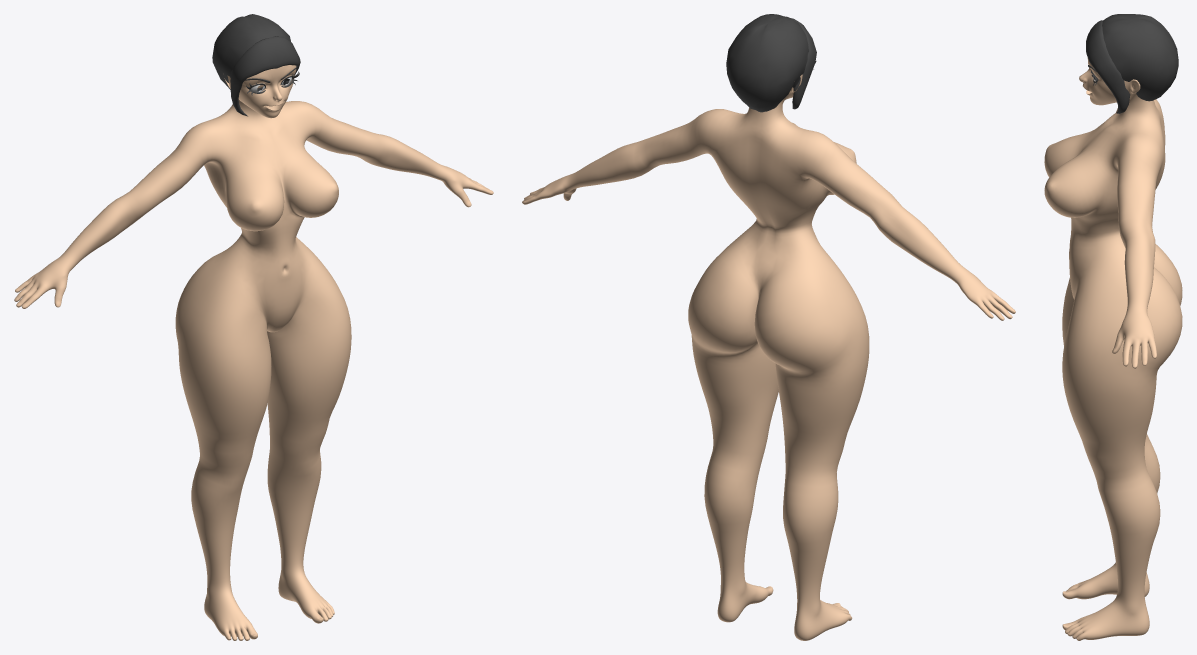
The model's file is HARLIE.glb.
3 renders of one model, left to right at view 1: azimuth 30°, elevation 25°; view 2: azimuth 150°, elevation 25°; view 3: azimuth 270°, elevation 25°, orthographic. The views are drawn at different scales.
Parts seen in each view (by area): view 1: 40_Survival Specialist Hair_0.14_0_0.002; view 2: 40_Survival Specialist Hair_0.14_0_0.002; view 3: 40_Survival Specialist Hair_0.14_0_0.002.
Boxes of the visible parts, bbox=[...] form: 40_Survival Specialist Hair_0.14_0_0.002: bbox=[14, 14, 493, 640]; 40_Survival Specialist Hair_0.14_0_0.002: bbox=[522, 14, 1015, 640]; 40_Survival Specialist Hair_0.14_0_0.002: bbox=[1044, 14, 1182, 640].
Bounding box in the file's own units: 2.67 × 3.17 × 0.663.
